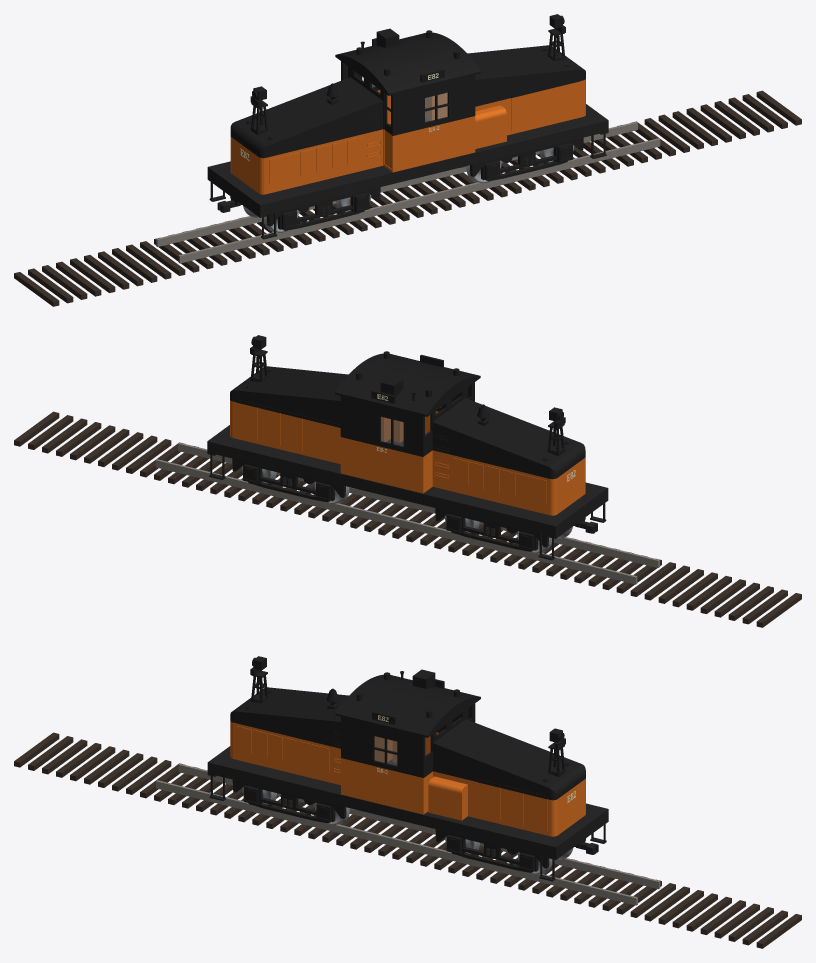
Rendered from MILW_ES2_Main_E82.glb.
3 views of the same model, one above another, from view 1: azimuth 30°, elevation 25°; view 2: azimuth 150°, elevation 25°; view 3: azimuth 330°, elevation 25° (orthographic).
Parts seen in each view (by area): view 1: ties, high, low, frame, rails, roof, trucks, lights, wheels; view 2: ties, high, low, frame, rails, roof, trucks, lights, wheels; view 3: ties, high, low, frame, rails, roof, trucks, lights, wheels.
Part boxes in pixels (x1,y1,x2,y2): ties: (14,90,801,306); high: (230,45,585,158); low: (230,79,585,194); frame: (207,104,608,239); rails: (156,121,660,263); roof: (335,28,480,95); trucks: (267,137,583,230); lights: (250,14,565,132); wheels: (243,145,574,232); ties: (14,411,801,627); high: (230,366,585,479); low: (230,400,585,515); frame: (207,425,608,560); rails: (155,442,659,584); roof: (335,351,480,416); trucks: (232,458,548,551); lights: (250,335,565,453); wheels: (241,466,572,553); ties: (14,732,801,948); high: (230,687,585,800); low: (230,720,585,836); frame: (207,746,608,881); rails: (156,763,660,905); roof: (335,669,480,737); trucks: (232,779,549,872); lights: (250,656,565,774); wheels: (242,787,573,874).
Size of the model in its own units: 0.8656 by 0.1712 by 0.1081.
